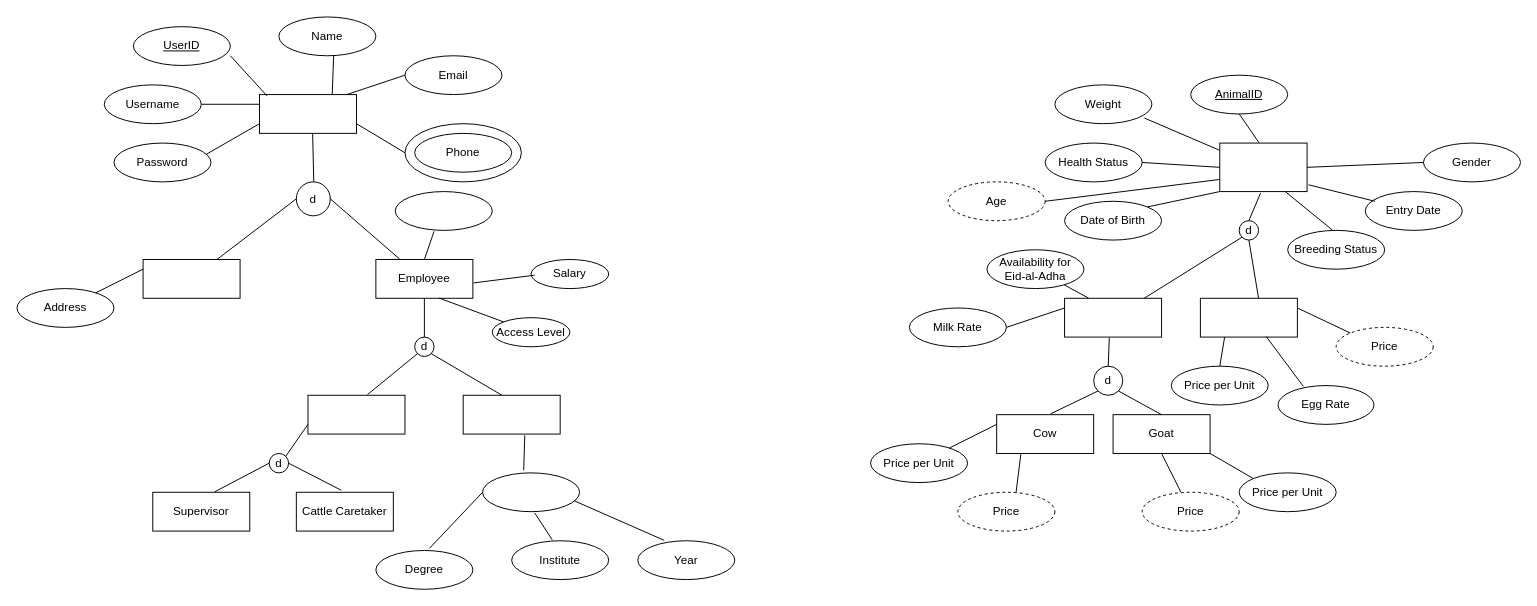
This 1537x606 diagram has some shape labels left out. Each missing label, with the box of its shape:
Animal: (1219, 142, 1307, 192)
Cattle: (1064, 297, 1162, 337)
Chicken: (1199, 297, 1297, 337)
Customer: (142, 259, 240, 298)
Doctor: (462, 394, 560, 434)
Joining Date: (394, 191, 492, 230)
Qualifications: (482, 472, 580, 512)
Staff: (307, 394, 405, 434)
User: (259, 94, 356, 133)
